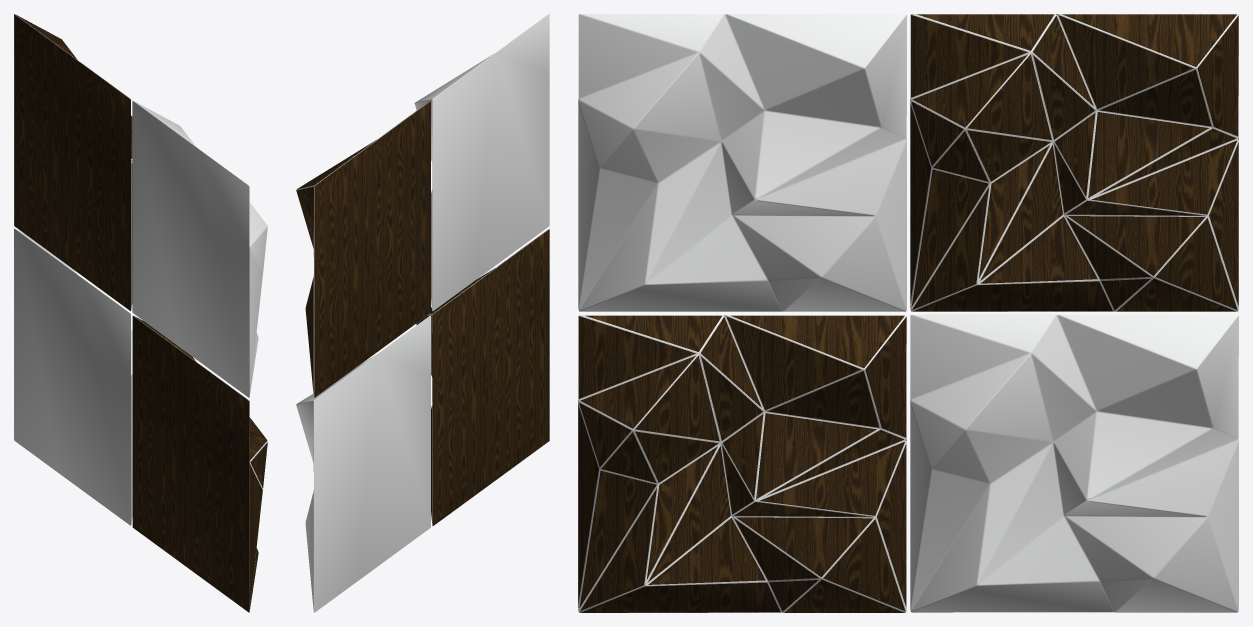
The model's file is geo_wall_decoration.glb.
3 views of the same model, side by side, from view 1: azimuth 30°, elevation 25°; view 2: azimuth 150°, elevation 25°; view 3: azimuth 270°, elevation 25° (orthographic). The views are drawn at different scales.
Parts seen in each view (by area): view 1: Plane; view 2: Plane; view 3: Plane.
Part boxes in pixels (x1,y1,x2,y2): Plane: (14, 14, 267, 612); Plane: (296, 14, 549, 612); Plane: (578, 14, 1238, 612).
Size of the model in its own units: 0.0999 by 1.08 by 1.08.
2 materials, 2 textured.
